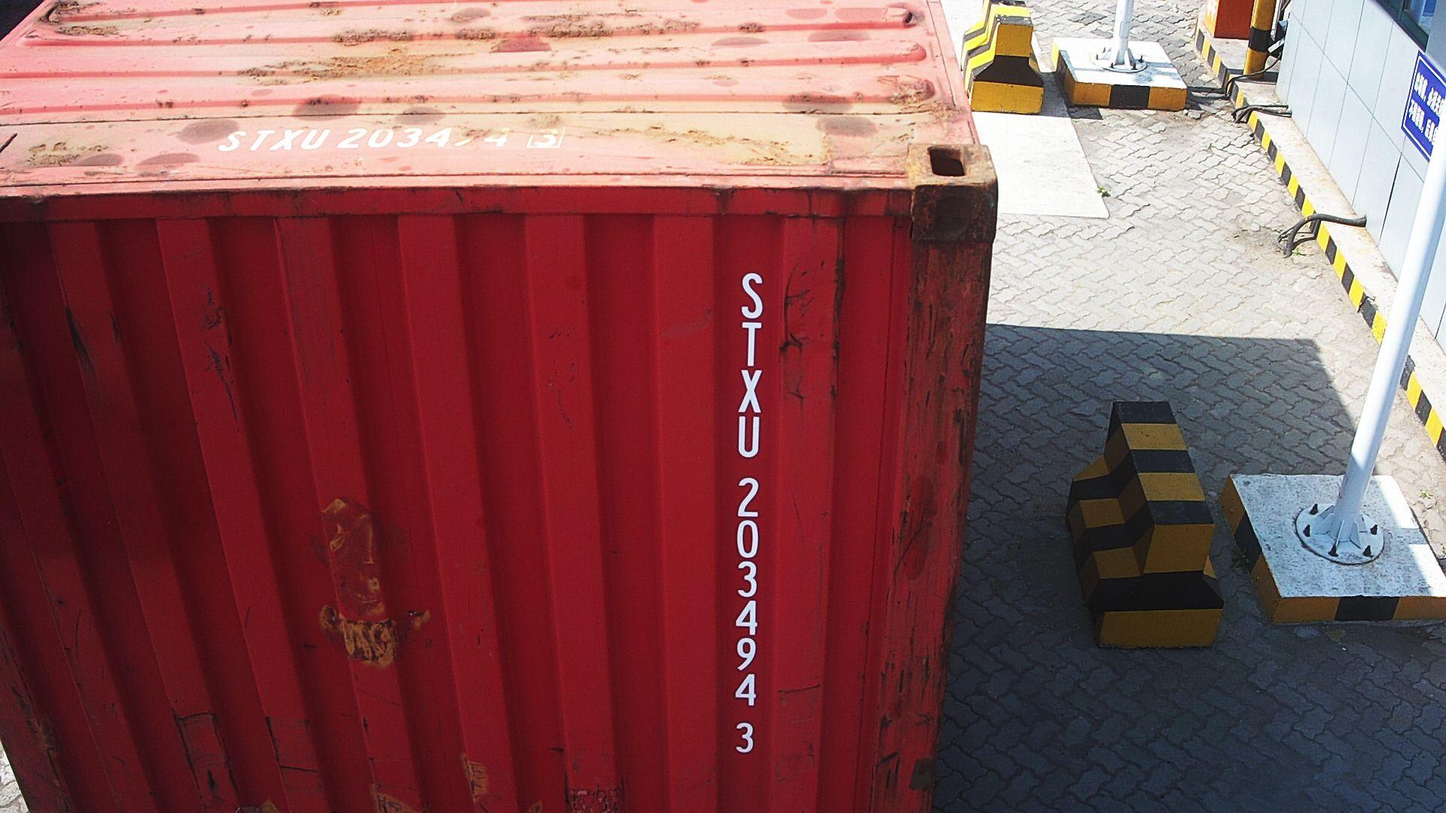container-numbers: (730, 269, 767, 761), (210, 123, 571, 156)
